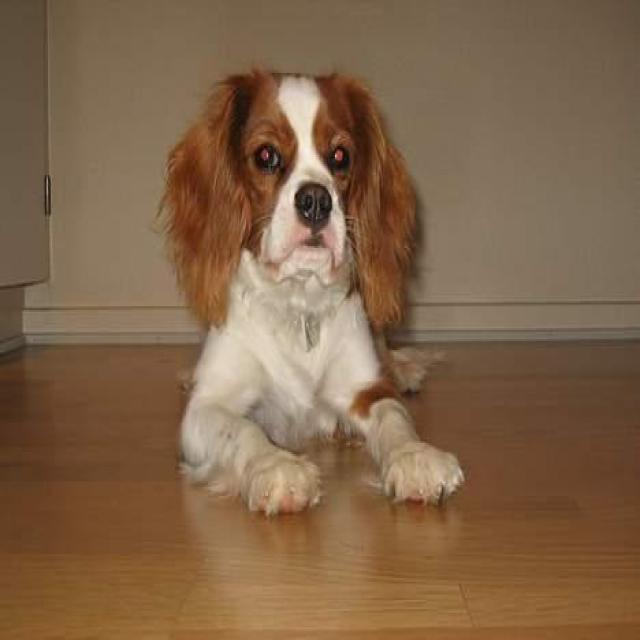blenheim_spaniel: (152, 68, 466, 514)
